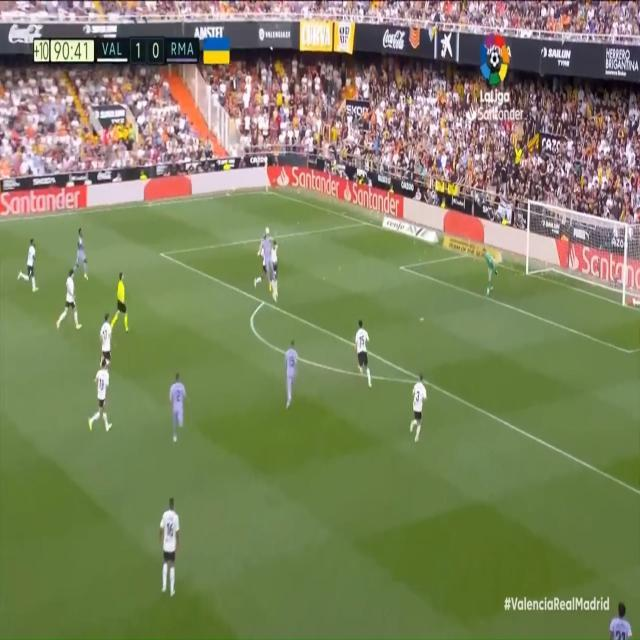ball: (265, 224, 271, 235)
goalkeeper: (479, 242, 497, 304)
player: (159, 491, 182, 601), (86, 355, 112, 436), (57, 267, 83, 336), (408, 368, 429, 446), (167, 371, 189, 445), (16, 232, 42, 290), (354, 316, 373, 388), (282, 337, 300, 410), (608, 599, 635, 640), (72, 226, 91, 282), (99, 310, 115, 369), (263, 236, 273, 299), (274, 236, 281, 292)
referee: (109, 264, 132, 339)
